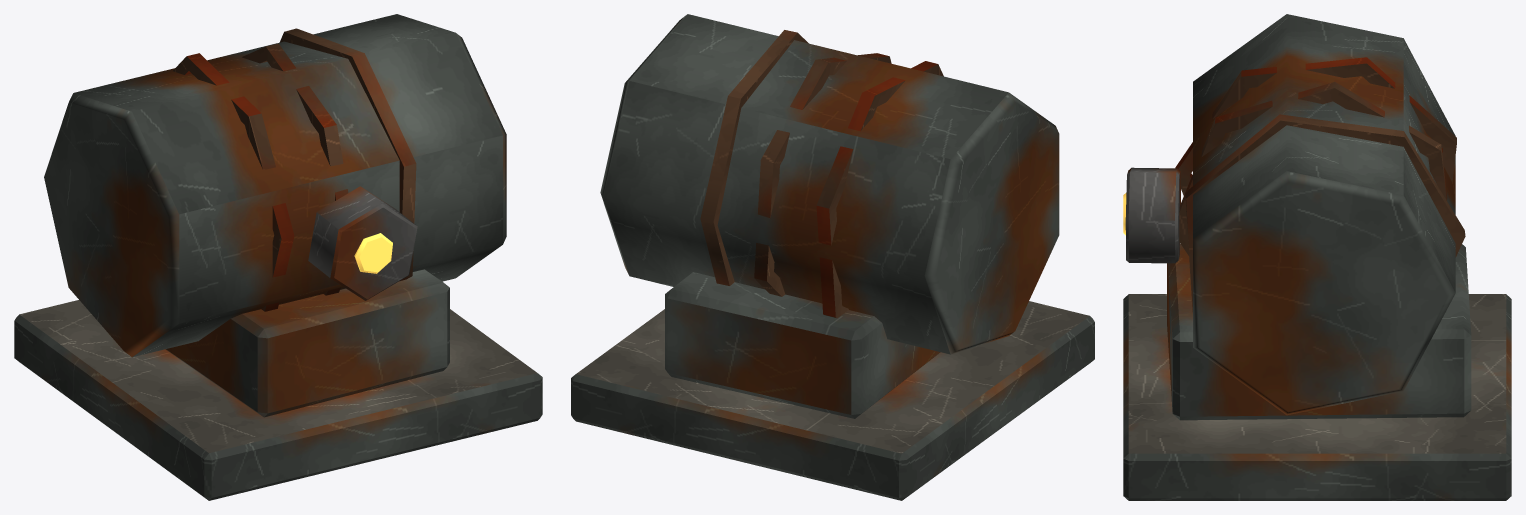
Rendered from R4X_DrivePower_LOD1.glb.
3 views of the same model, side by side, from view 1: azimuth 30°, elevation 25°; view 2: azimuth 150°, elevation 25°; view 3: azimuth 270°, elevation 25° (orthographic).
Parts seen in each view (by area): view 1: R4X_DrivePower_LOD1; view 2: R4X_DrivePower_LOD1; view 3: R4X_DrivePower_LOD1.
Part boxes in pixels (x1,y1,x2,y2): R4X_DrivePower_LOD1: [14, 14, 542, 500]; R4X_DrivePower_LOD1: [571, 14, 1094, 500]; R4X_DrivePower_LOD1: [1123, 14, 1511, 500].
Size of the model in its own units: 0.52 by 0.4984 by 0.52.
5 materials, 4 textured.
